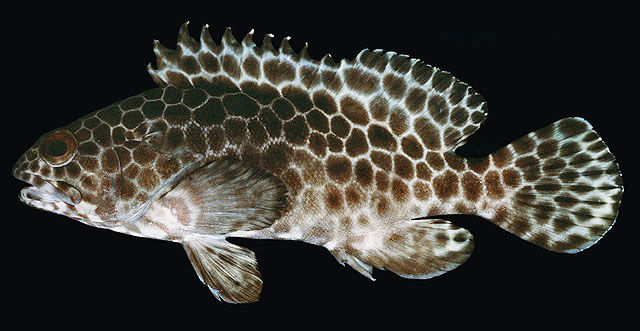fish: (12, 18, 625, 305)
